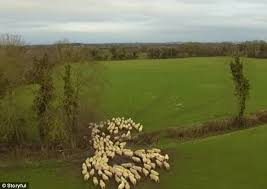sheep: (148, 172, 160, 182), (127, 174, 137, 185), (154, 158, 164, 168), (102, 168, 113, 176), (131, 164, 143, 171), (152, 146, 162, 154), (92, 175, 99, 186), (100, 172, 109, 180), (162, 160, 170, 169), (131, 155, 140, 163), (83, 172, 90, 180), (129, 166, 136, 174), (118, 181, 124, 189), (81, 162, 86, 170), (138, 125, 144, 131), (165, 154, 168, 159)
